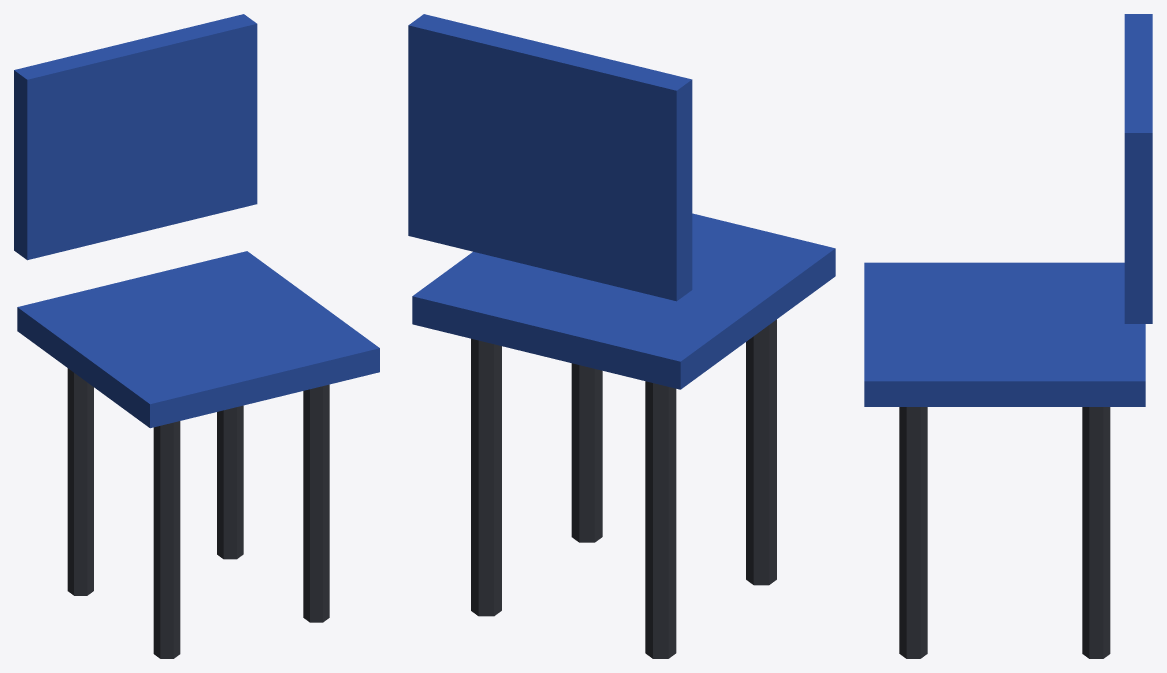
The model's file is school_chair.fbx.
3 views of the same model, side by side, from view 1: azimuth 30°, elevation 25°; view 2: azimuth 150°, elevation 25°; view 3: azimuth 270°, elevation 25° (orthographic). The views are drawn at different scales.
Parts seen in each view (by area): view 1: school_chair; view 2: school_chair; view 3: school_chair.
Boxes of the visible parts, x1,y1,x2,y2 form: school_chair: (14,14,379,658); school_chair: (408,14,835,658); school_chair: (864,14,1152,658).
Bounding box in the file's own units: 0.4 × 0.85 × 0.41.
